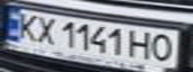1: (54, 18, 78, 48), (72, 20, 93, 52), (106, 26, 127, 56)
4: (90, 24, 109, 54)
H: (127, 28, 157, 61)
K: (12, 10, 42, 42)
O: (148, 32, 181, 63)
X: (30, 13, 60, 46)
